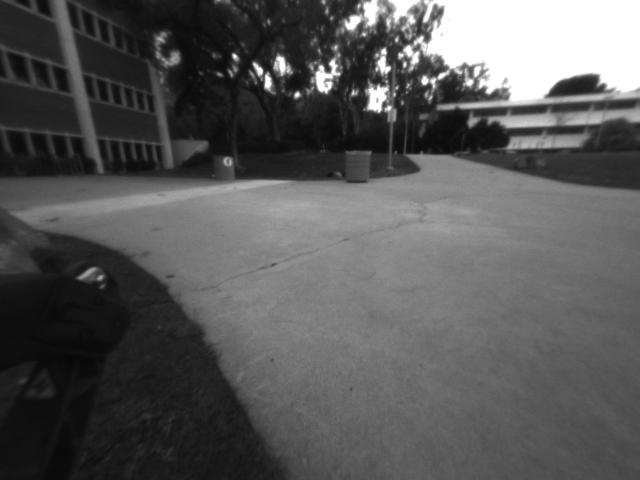trashcan: (342, 147, 376, 192), (211, 151, 241, 186)
